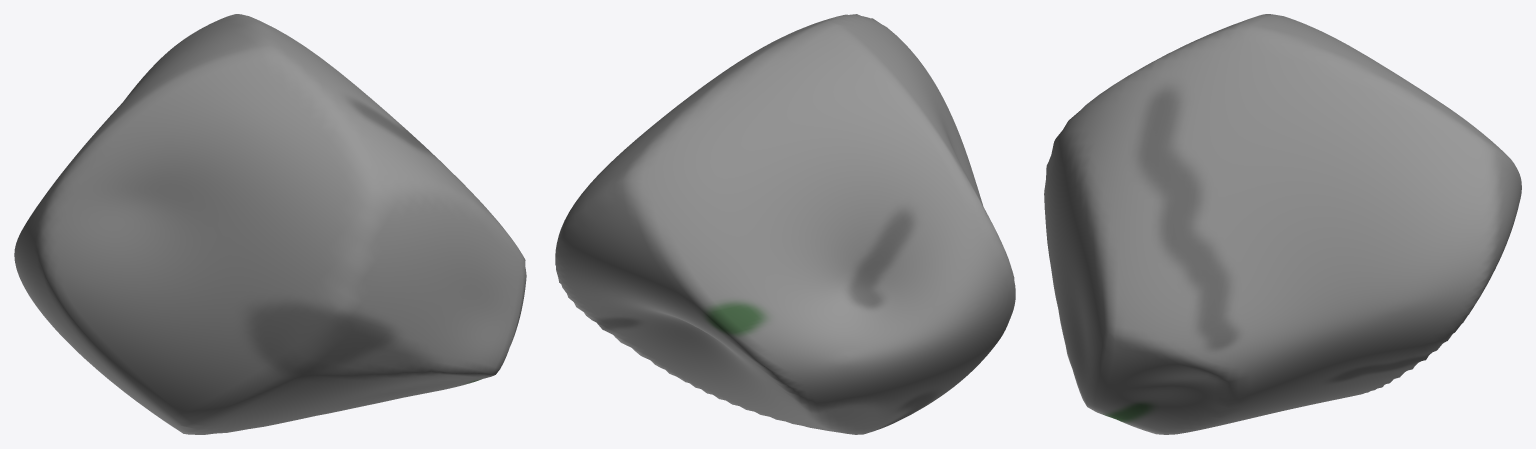
Rendered from Rock.fbx.
3 renders of one model, left to right at view 1: azimuth 30°, elevation 25°; view 2: azimuth 150°, elevation 25°; view 3: azimuth 270°, elevation 25°, orthographic.
Visible parts, largest first — view 1: Rock; view 2: Rock; view 3: Rock.
Part boxes in pixels (<box>): Rock: <box>14,14,526,434</box>; Rock: <box>555,14,1015,434</box>; Rock: <box>1044,14,1521,434</box>.
Bounding box in the file's own units: 149 × 128 × 151.
Materials: 1 (1 with a texture image).
